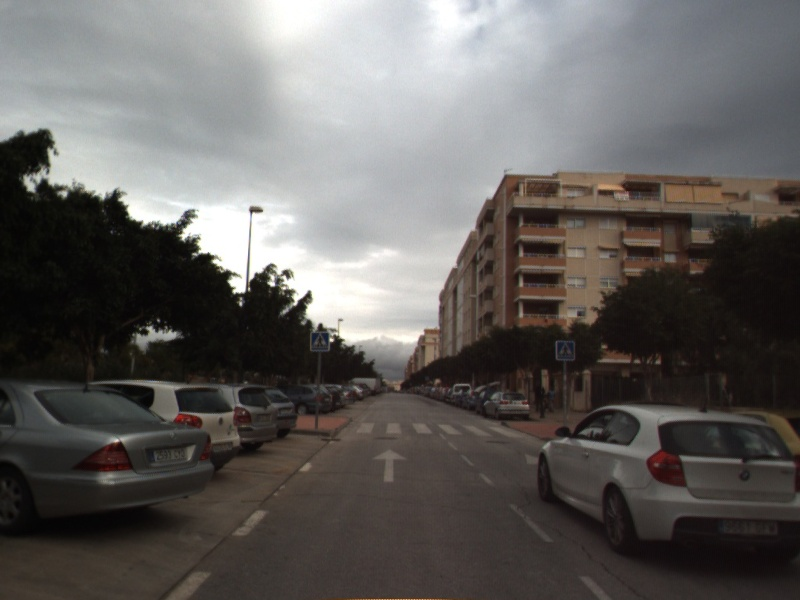STRAIGHT: (370, 447, 410, 483)
